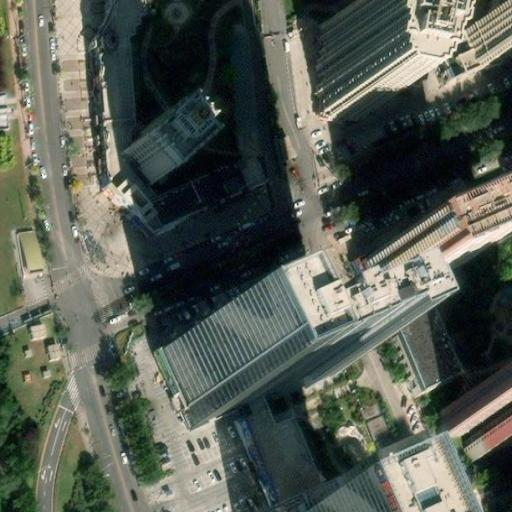building: (157, 325, 338, 422), (247, 388, 380, 512), (367, 220, 468, 292), (307, 27, 384, 118), (115, 113, 195, 192), (437, 381, 512, 459), (460, 7, 512, 66), (13, 225, 47, 275)
